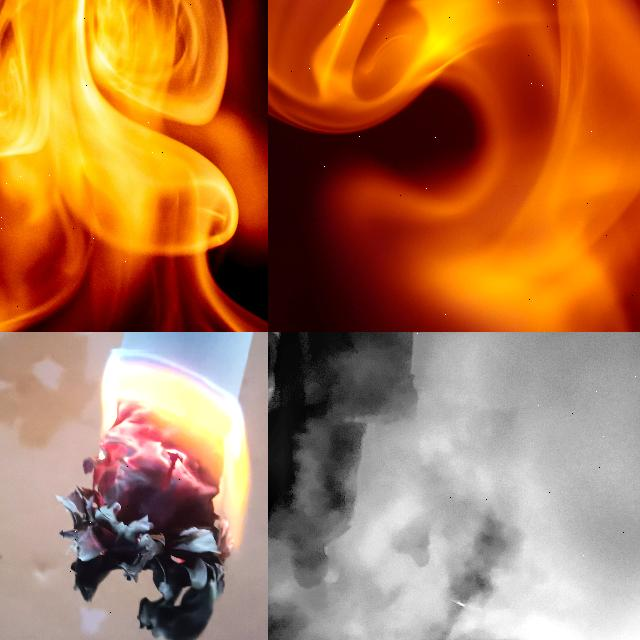fire: (268, 0, 640, 332), (0, 0, 268, 332), (63, 352, 247, 640)
smoke: (410, 332, 640, 640)
